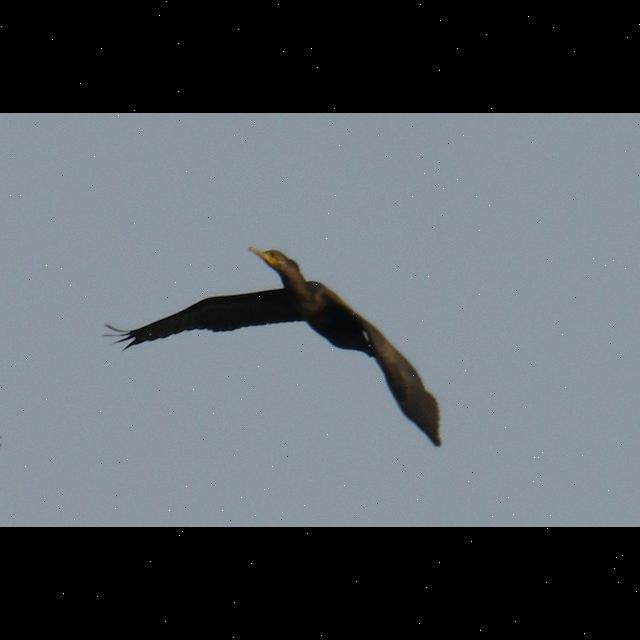cormorant: (88, 243, 450, 453)
